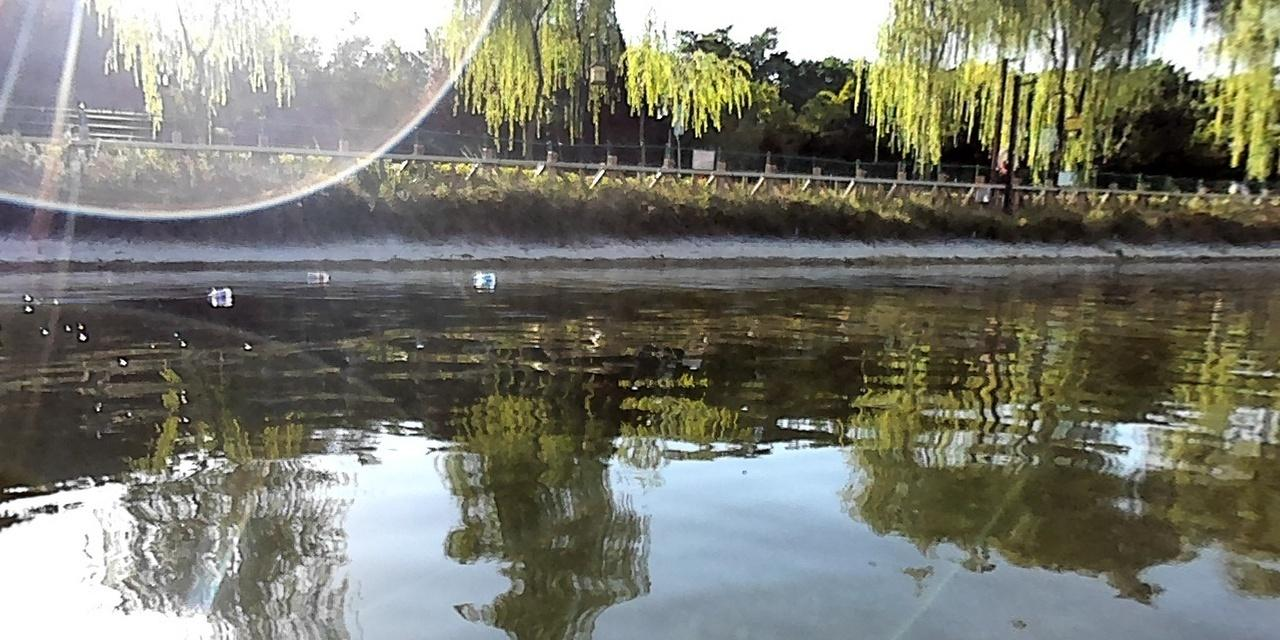bottle: (203, 284, 233, 302), (304, 268, 333, 281), (471, 271, 498, 284)
